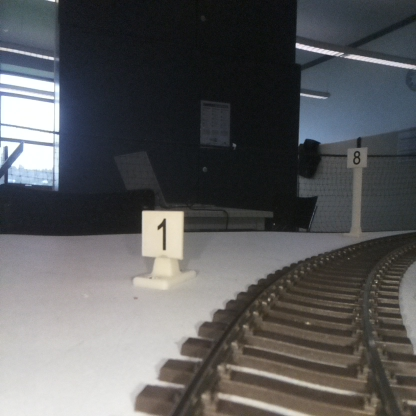white-stop-1: (141, 211, 183, 284)
